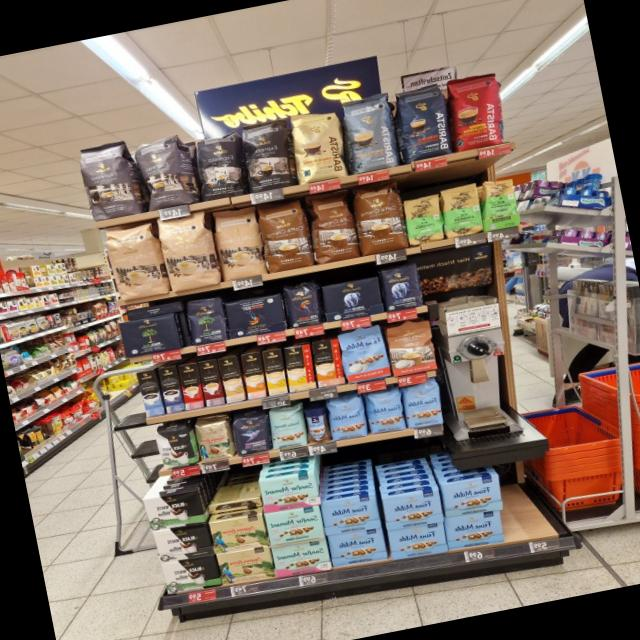AB Bohne: (378, 262, 425, 314)
AB Gemahlen: (320, 276, 386, 324)
Athiopien Bohne: (474, 175, 524, 232)
Athiopien Gemahlen: (437, 182, 485, 238), (402, 193, 447, 247)
BM Bohne: (182, 294, 231, 347)
BM Gemahlen: (119, 312, 182, 360)
BW Bohne: (152, 422, 196, 472)
BW Gemahlen: (143, 488, 205, 532), (153, 521, 213, 564), (162, 554, 222, 595)
Barista CB: (287, 107, 350, 184)
Barista CC: (338, 91, 400, 174)
Barista Espresso: (390, 80, 456, 163)
Barista Kolumbien: (441, 69, 512, 154)
C Fino Bohne: (230, 412, 272, 457)
CC Mild: (156, 211, 219, 294), (103, 222, 165, 304), (210, 204, 268, 283)
CC Vollmundig: (384, 317, 439, 378)
CC Vollmundig 36 Pads: (348, 180, 411, 256), (255, 197, 315, 273), (304, 190, 362, 265)
Colombia BB Bohne: (193, 419, 234, 464)
Colombia BB Gemahlen: (208, 513, 269, 555), (216, 544, 276, 586)
Espresso M Art: (132, 130, 196, 212), (76, 139, 139, 222)
Espresso S Art: (236, 116, 300, 194), (189, 130, 250, 202)
FM 36 Pads: (337, 324, 391, 386)
FM Bohne: (399, 378, 447, 431), (362, 386, 408, 436), (326, 396, 368, 442)
FM Gemahlen: (440, 472, 506, 518), (381, 487, 445, 532), (444, 509, 506, 553), (321, 494, 382, 538), (386, 520, 448, 562), (328, 527, 388, 570)
FM Instant: (302, 402, 332, 445)
LG Bohne: (282, 280, 324, 330)
SM Bohne: (265, 405, 309, 452)
SM Gemahlen: (258, 470, 321, 514), (264, 503, 325, 547), (272, 538, 332, 580)
Simo CCMild: (282, 344, 318, 394)
Simo CCMild bigpack: (261, 348, 290, 396)
Simo CCVollmundig: (310, 338, 346, 388)
Simo CCVollmundig bigpack: (240, 352, 268, 399)
Simo Decaff: (218, 355, 245, 403)
Simo Es Brazil: (178, 362, 205, 410)
Simo Es Caramel: (198, 358, 225, 408)
Simo Es Kraft: (157, 365, 185, 414)
Simo Es Vanilla: (136, 370, 164, 418)
